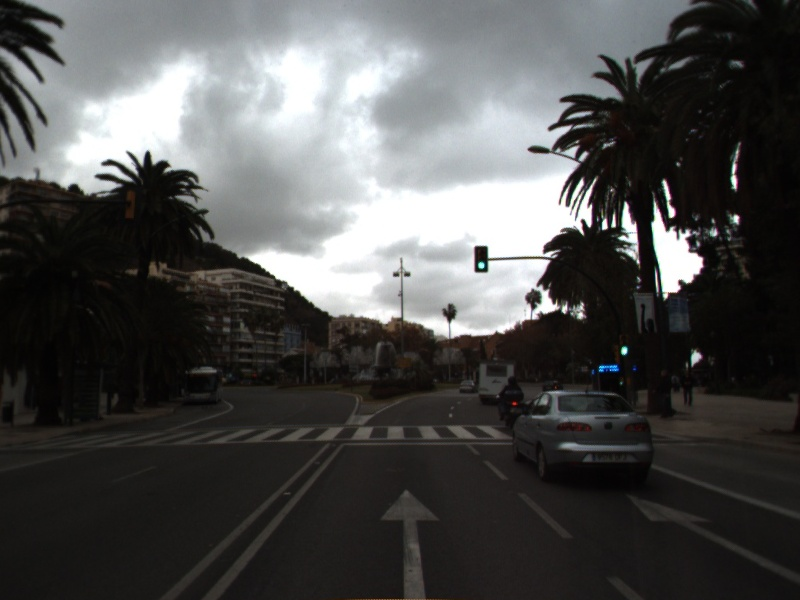STRAIGHT: (623, 491, 800, 583), (377, 486, 443, 600)
